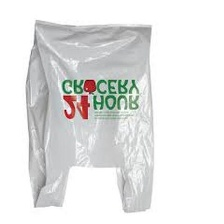plastic_bag: (24, 14, 159, 217)
